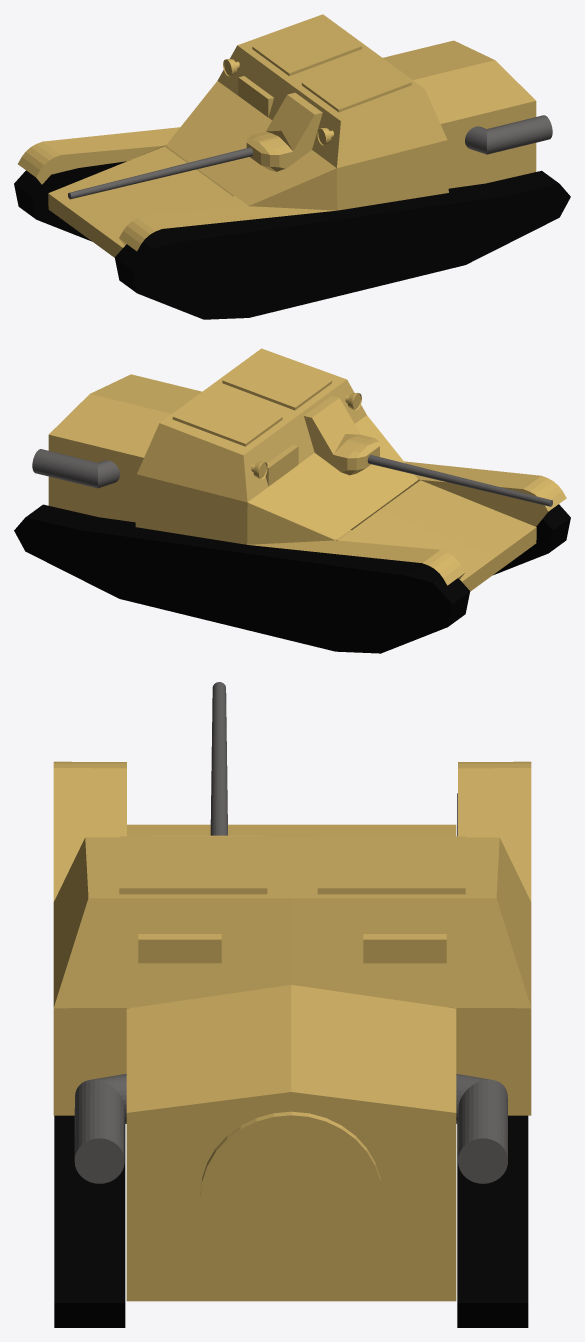
3 renders of one model, top to bottom at view 1: azimuth 30°, elevation 25°; view 2: azimuth 150°, elevation 25°; view 3: azimuth 270°, elevation 25°, orthographic. The views are drawn at different scales.
Visible parts, largest first — view 1: l3, manlet; view 2: l3, manlet; view 3: l3, manlet.
Part boxes in pixels (x1,y1,x2,y2): l3: (14,14,570,319); manlet: (68,92,322,199); l3: (14,348,570,653); manlet: (304,396,552,506); l3: (53,761,531,1327); manlet: (153,682,262,836).
Bounding box in the file's own units: 3.18 × 1.19 × 1.43.
